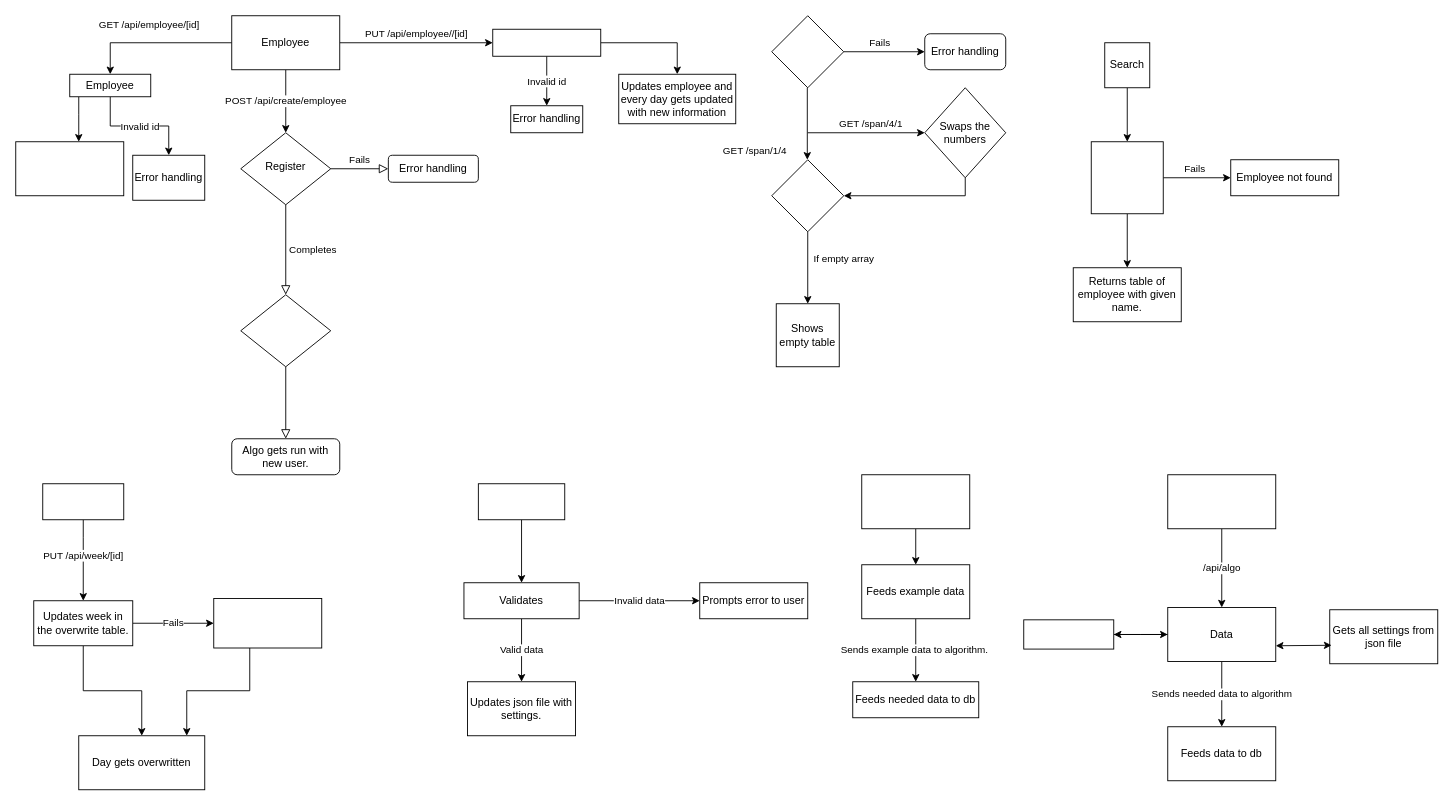
The diagram is 1454 pixels wide and 806 high, and some of its shapes have lost their labels. Each missing label, with the centre of its shape:
"/api/allEmployees" belongs at point 1068,634.
"Algorithm" belongs at point 1221,501.
"Demo" belongs at point 915,501.
"Looks for employee name" belongs at point 1126,177.
"Returns 1-4" belongs at point 807,195.
"Returns table of all days and week given employee has." belongs at point 69,168.
"Settings" belongs at point 521,501.
"Span" belongs at point 807,51.
"Tries to create an update instead." belongs at point 267,623.
"Update" belongs at point 83,501.
"Updates employee" belongs at point 546,42.
"User gets added to db" belongs at point 285,330.
